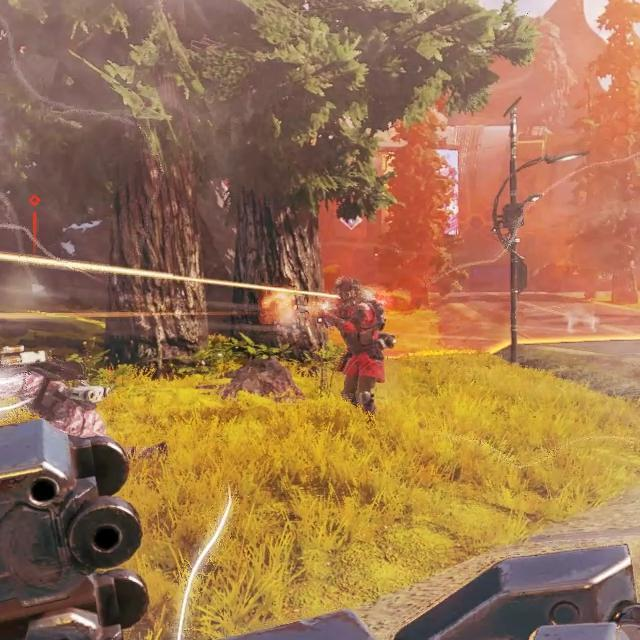avatar: (316, 274, 398, 418)
